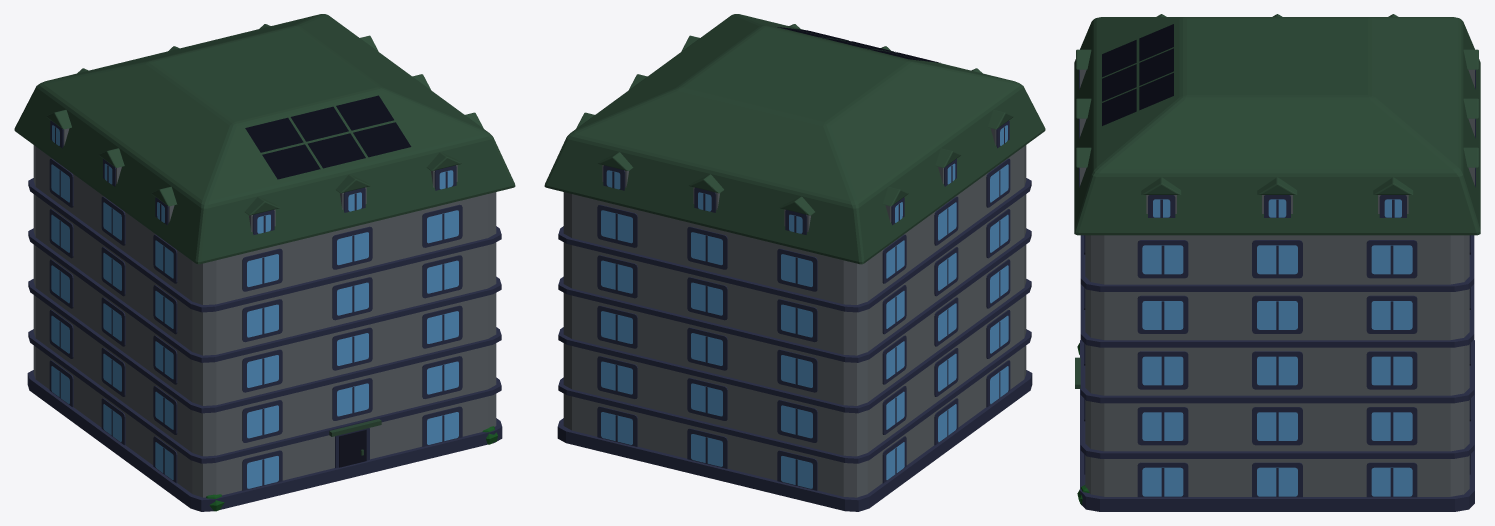
The model's file is house-2x2-5f-mansard-d-solar.glb.
The picture shows the model from 3 angles, left to right: view 1: azimuth 30°, elevation 25°; view 2: azimuth 150°, elevation 25°; view 3: azimuth 270°, elevation 25°; orthographic projection. The views are drawn at different scales.
Parts seen in each view (by area): view 1: house-2x2-5f-mansard-d-solar; view 2: house-2x2-5f-mansard-d-solar; view 3: house-2x2-5f-mansard-d-solar.
Part boxes in pixels (left/top/right/bottom): house-2x2-5f-mansard-d-solar: left=14, top=14, right=515, bottom=511; house-2x2-5f-mansard-d-solar: left=544, top=14, right=1045, bottom=511; house-2x2-5f-mansard-d-solar: left=1074, top=14, right=1480, bottom=511.
Size of the model in its own units: 1.99 by 2.01 by 1.99.
Materials: 1 (1 with a texture image).
